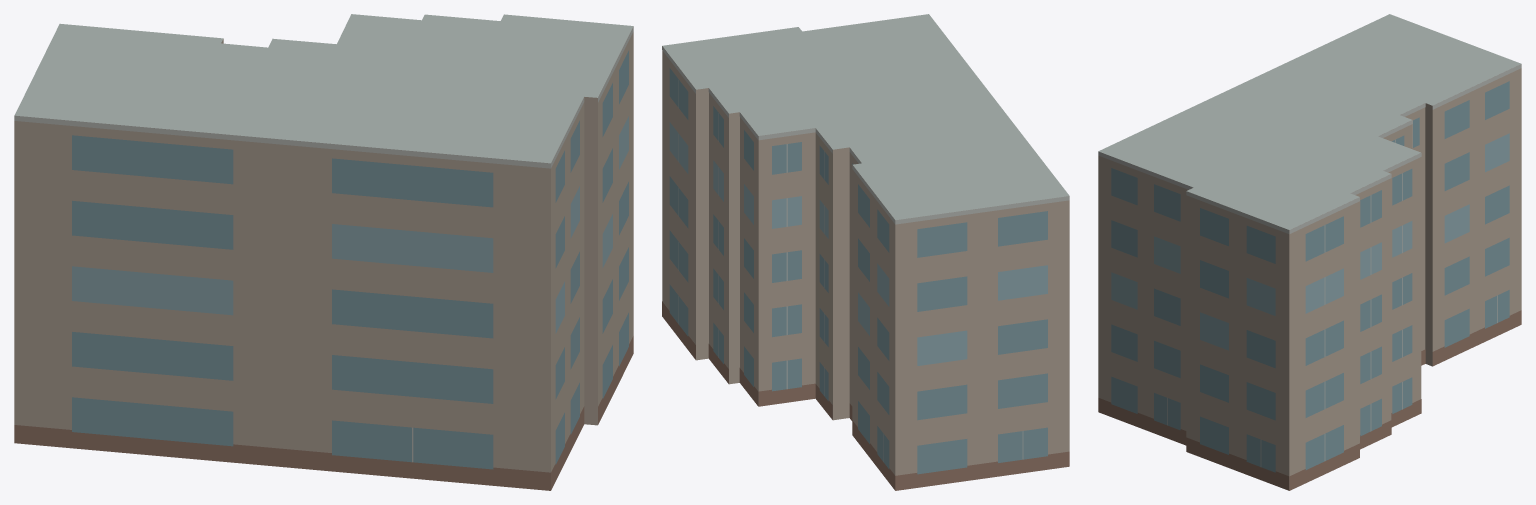
Rendered from survey-upis-32526095.glb.
3 renders of one model, left to right at view 1: azimuth 30°, elevation 25°; view 2: azimuth 150°, elevation 25°; view 3: azimuth 270°, elevation 25°, orthographic. The views are drawn at different scales.
Parts seen in each view (by area): view 1: survey-upis-32526095.tmp; view 2: survey-upis-32526095.tmp; view 3: survey-upis-32526095.tmp.
Part boxes in pixels (<box>): survey-upis-32526095.tmp: <box>14,14,633,490</box>; survey-upis-32526095.tmp: <box>662,14,1069,490</box>; survey-upis-32526095.tmp: <box>1098,14,1521,490</box>.
Size of the model in its own units: 27.11 by 15.25 by 22.45.
